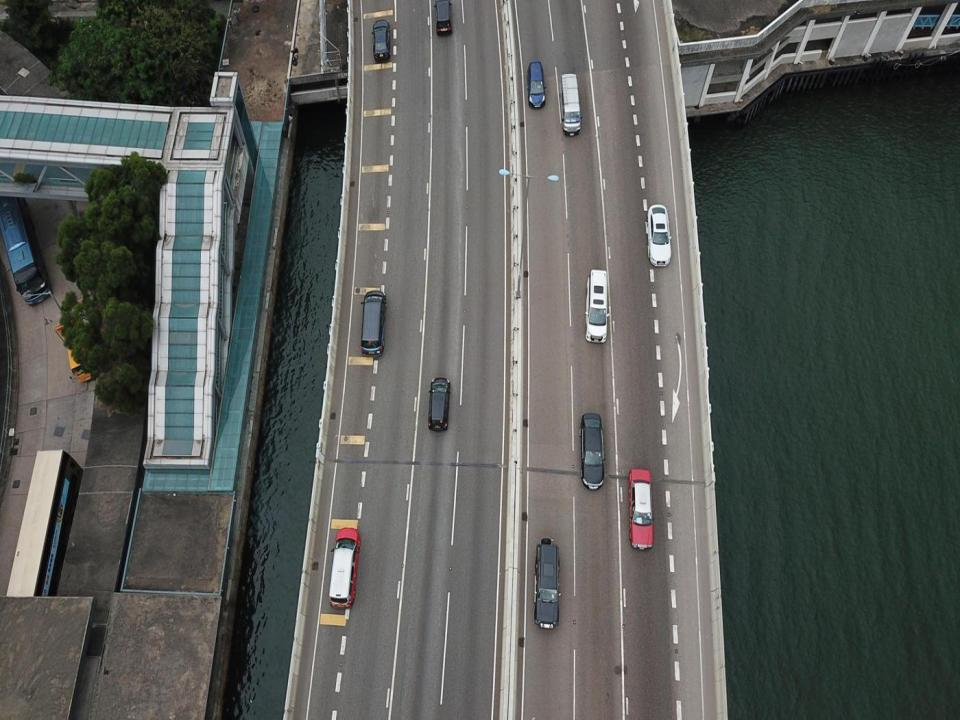bus: (14, 437, 68, 617), (0, 208, 47, 308)
car: (326, 526, 363, 608), (576, 412, 610, 492), (533, 538, 561, 632), (626, 467, 656, 552), (583, 267, 611, 345), (359, 290, 388, 356), (648, 203, 672, 268), (426, 377, 452, 433), (526, 60, 547, 109), (370, 19, 393, 60)
truck: (49, 298, 113, 386)
van: (558, 71, 584, 138), (431, 0, 455, 38)
